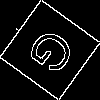G: (25, 25, 86, 84)
